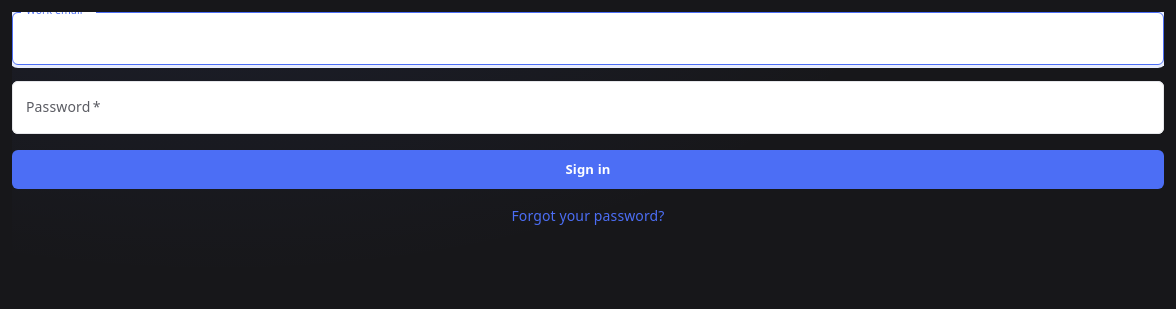
Test: LoginForm (no enumeration, trims + lowercases) › rate-limit copy is distinct
Type "a@b.co" into the field labelled "Work email *" at (588, 39), box [12,12,1164,65]
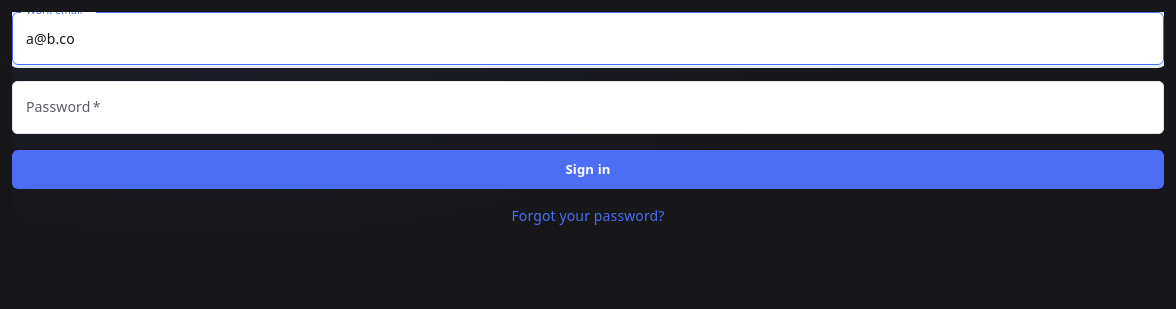
Type "x1234567" into the password field labelled "Password *" at (588, 108), box [12,81,1164,134]
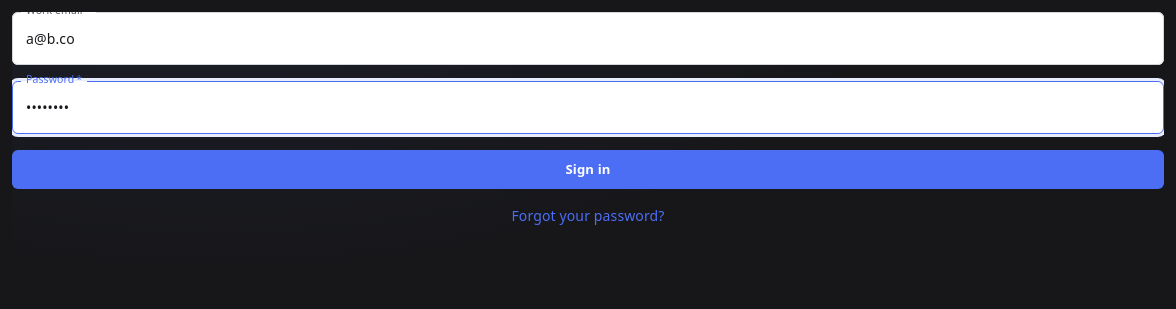
Click the button "Sign in" at (588, 170), box [12,150,1164,189]
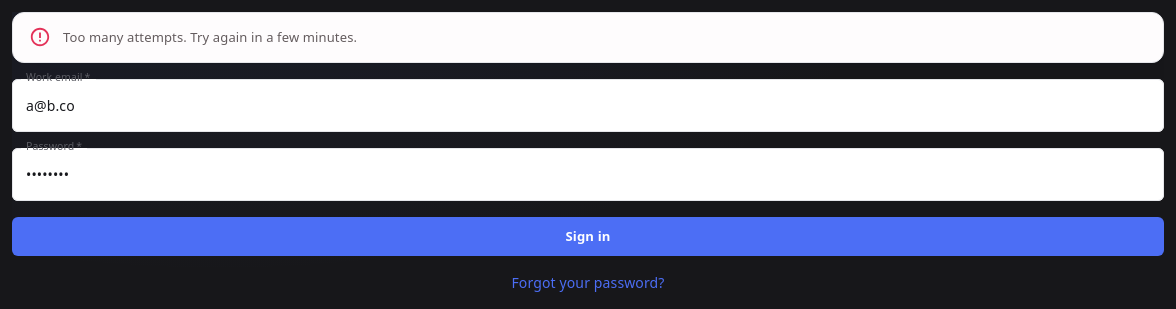
Expected: the text "Too many attempts. Try again in a few minutes." is shown, [63,28,357,46]
